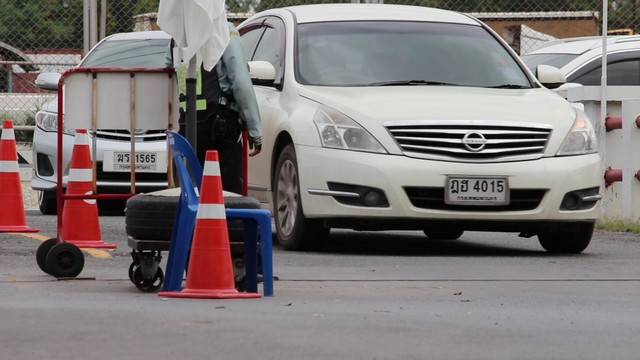in: (449, 178, 505, 201)
out: (444, 173, 511, 206)
